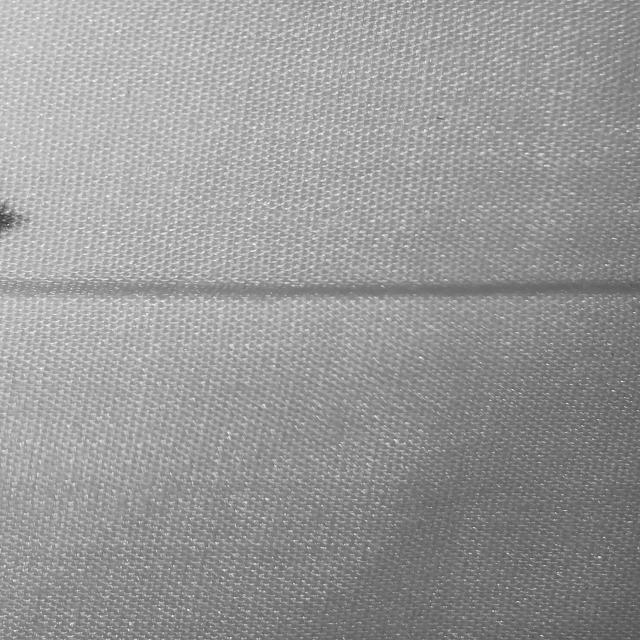Line: (0, 279, 640, 297)
Stain: (0, 201, 27, 233)
